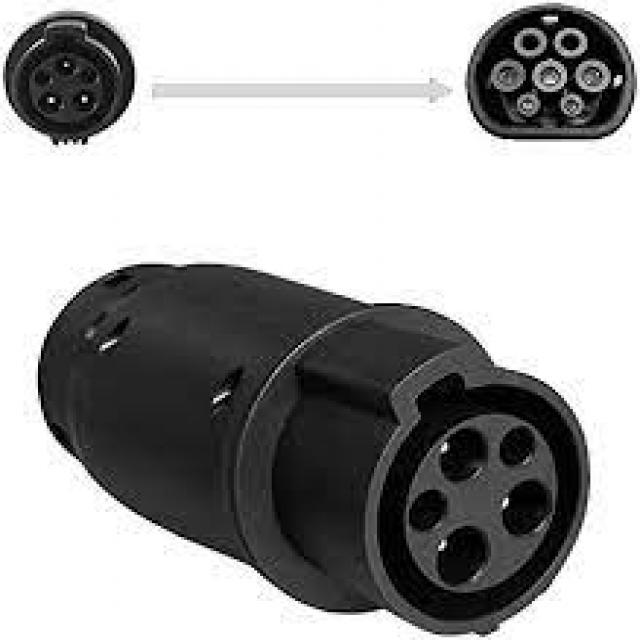Type 2: (460, 0, 640, 205)
